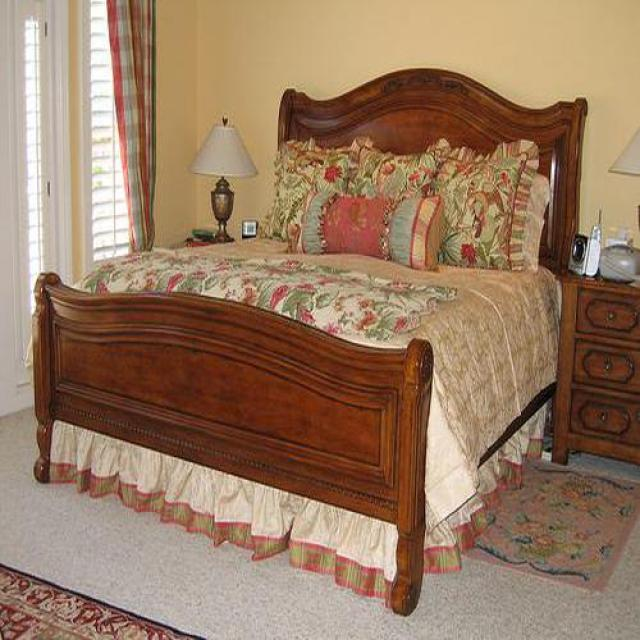bed: (32, 69, 588, 618)
